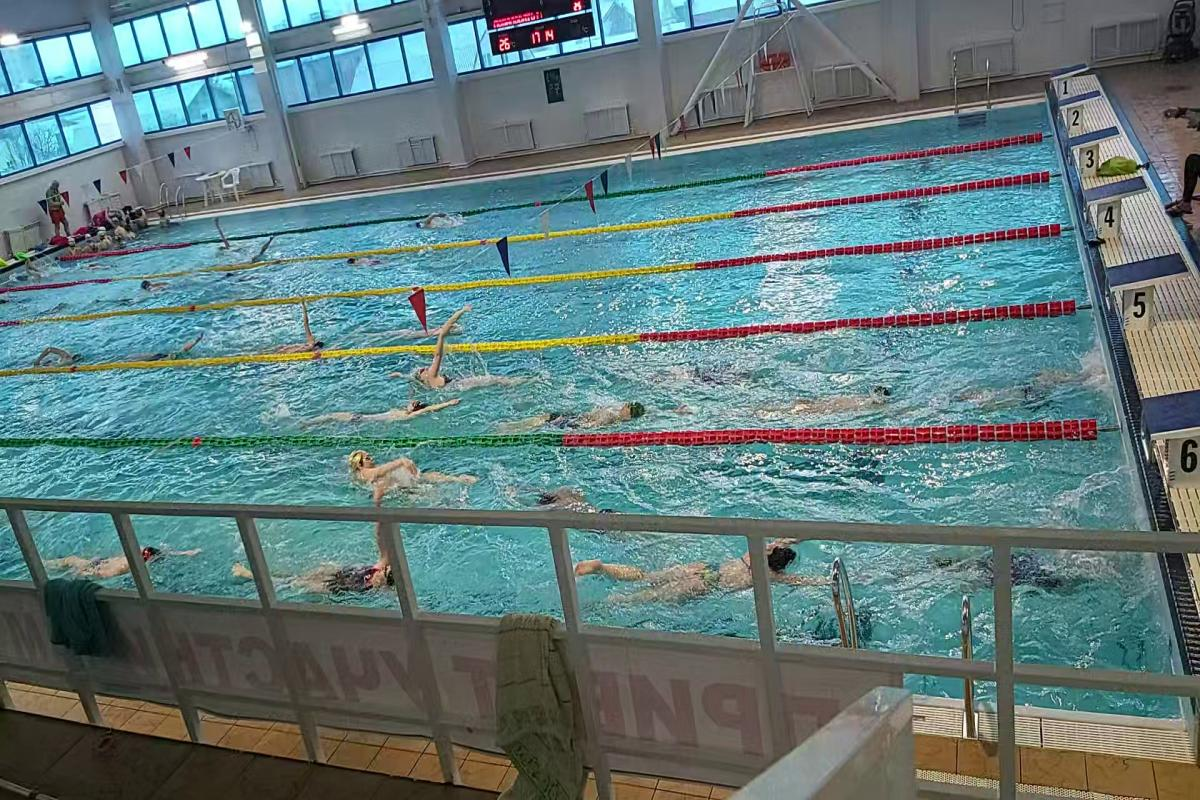swimmer: (576, 540, 807, 612), (234, 542, 407, 602), (911, 540, 1078, 601), (41, 522, 181, 582), (344, 447, 478, 497), (385, 350, 523, 394), (309, 395, 464, 434), (495, 400, 657, 432), (777, 390, 897, 423), (272, 309, 334, 350), (518, 476, 588, 508), (124, 334, 206, 361), (28, 338, 94, 364), (341, 253, 402, 274), (404, 212, 460, 233), (137, 276, 178, 296)
